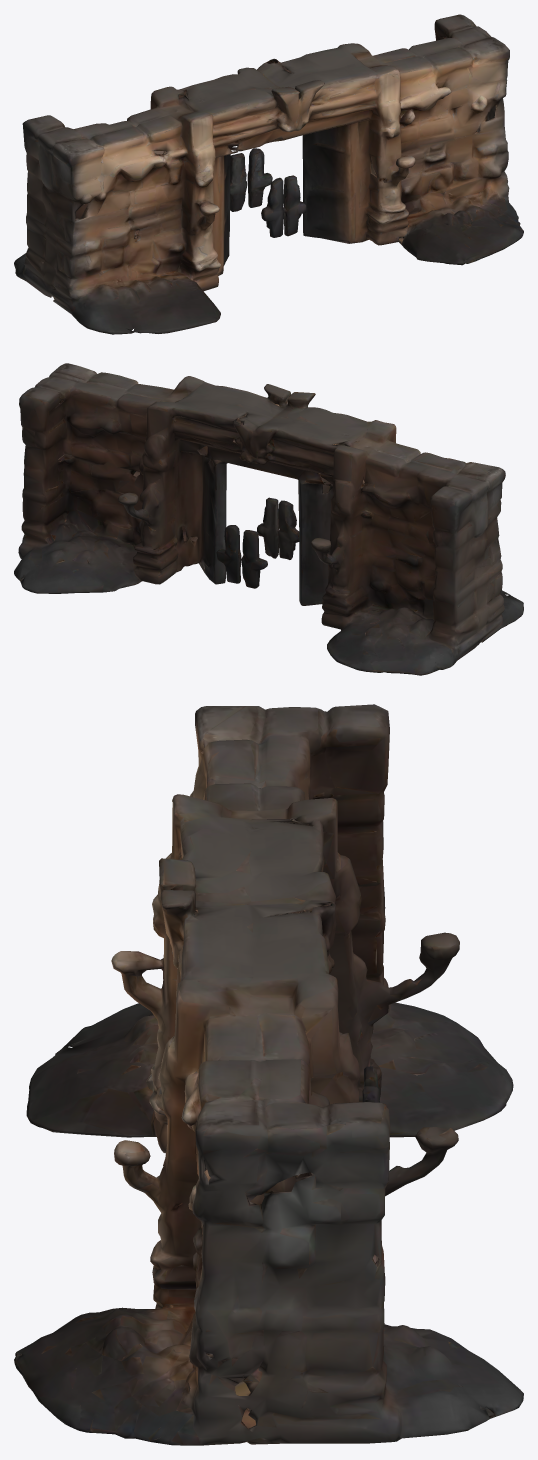
Rendered from wall_gate.glb.
The picture shows the model from 3 angles, top to bottom: view 1: azimuth 30°, elevation 25°; view 2: azimuth 150°, elevation 25°; view 3: azimuth 270°, elevation 25°; orthographic projection. The views are drawn at different scales.
Bounding box in the file's own units: 2 × 0.7836 × 1.01.
Materials: 1 (1 with a texture image).
